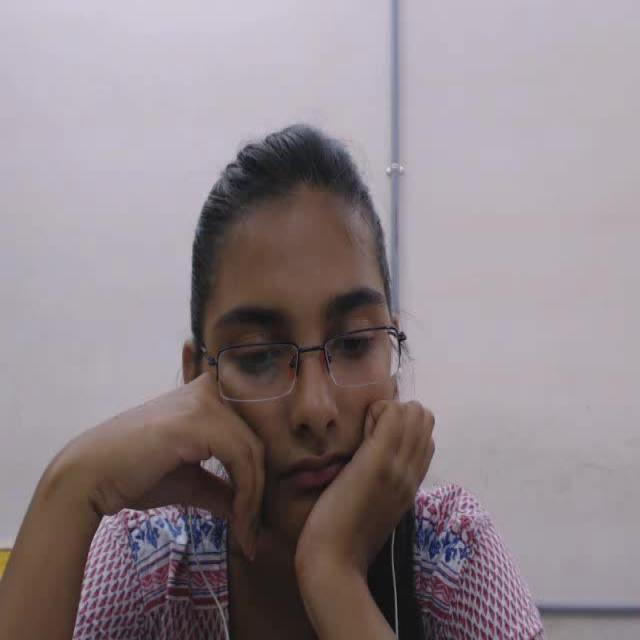Bored: (151, 106, 430, 603)
